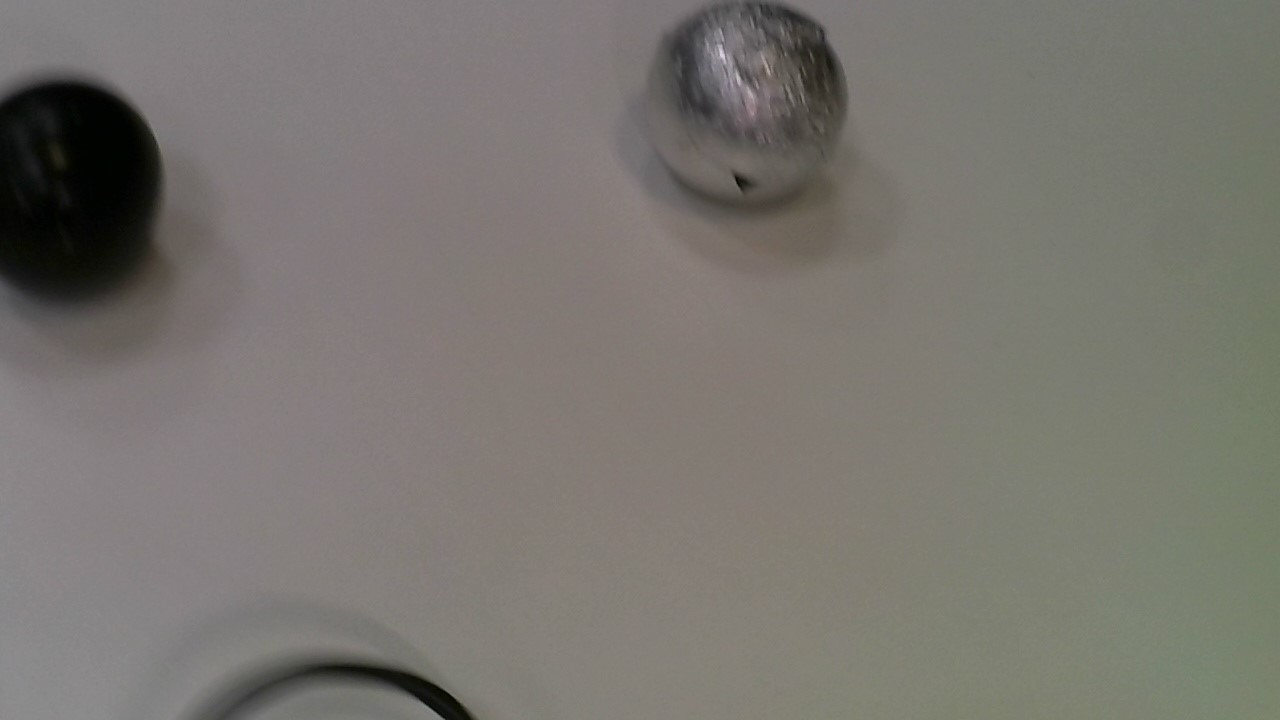black_ball: (1, 73, 191, 303)
silver_ball: (632, 1, 866, 213)
